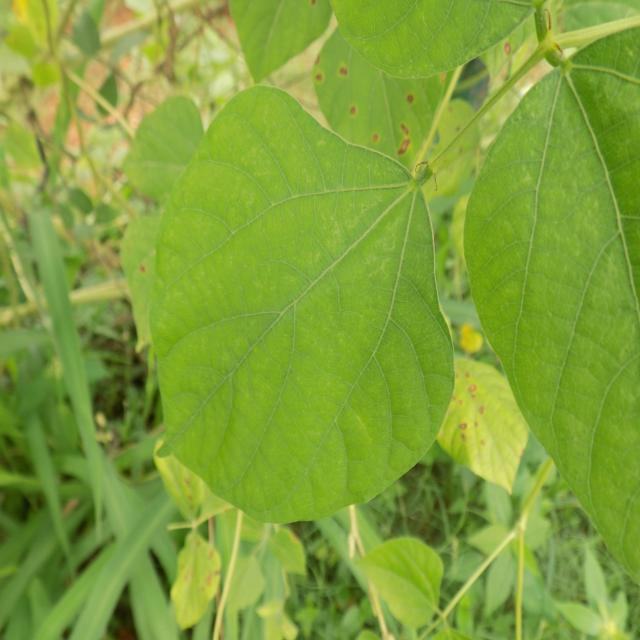Dolicos bean_healthy: (154, 81, 453, 519)
